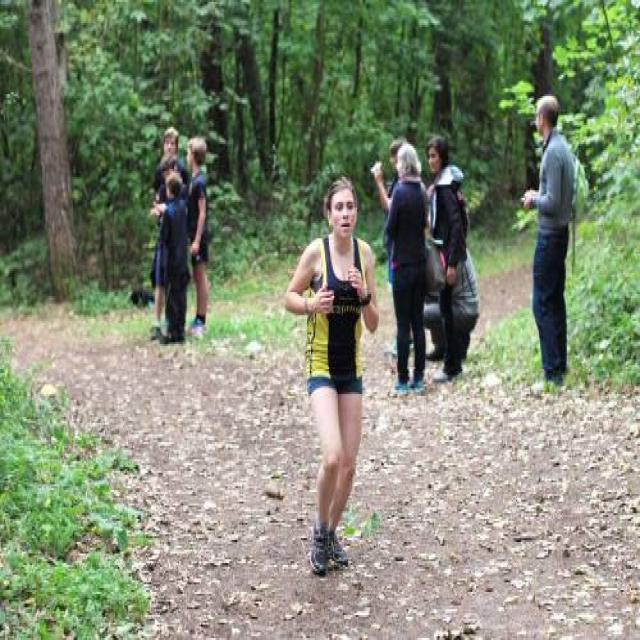running: (280, 176, 382, 588)
standing: (519, 95, 574, 396), (391, 146, 425, 392), (188, 134, 210, 335)
